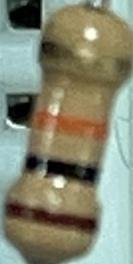Black: (24, 149, 101, 186)
Brown: (1, 194, 99, 237)
Orange: (28, 109, 110, 144)
Side-Gold: (41, 37, 133, 96)
